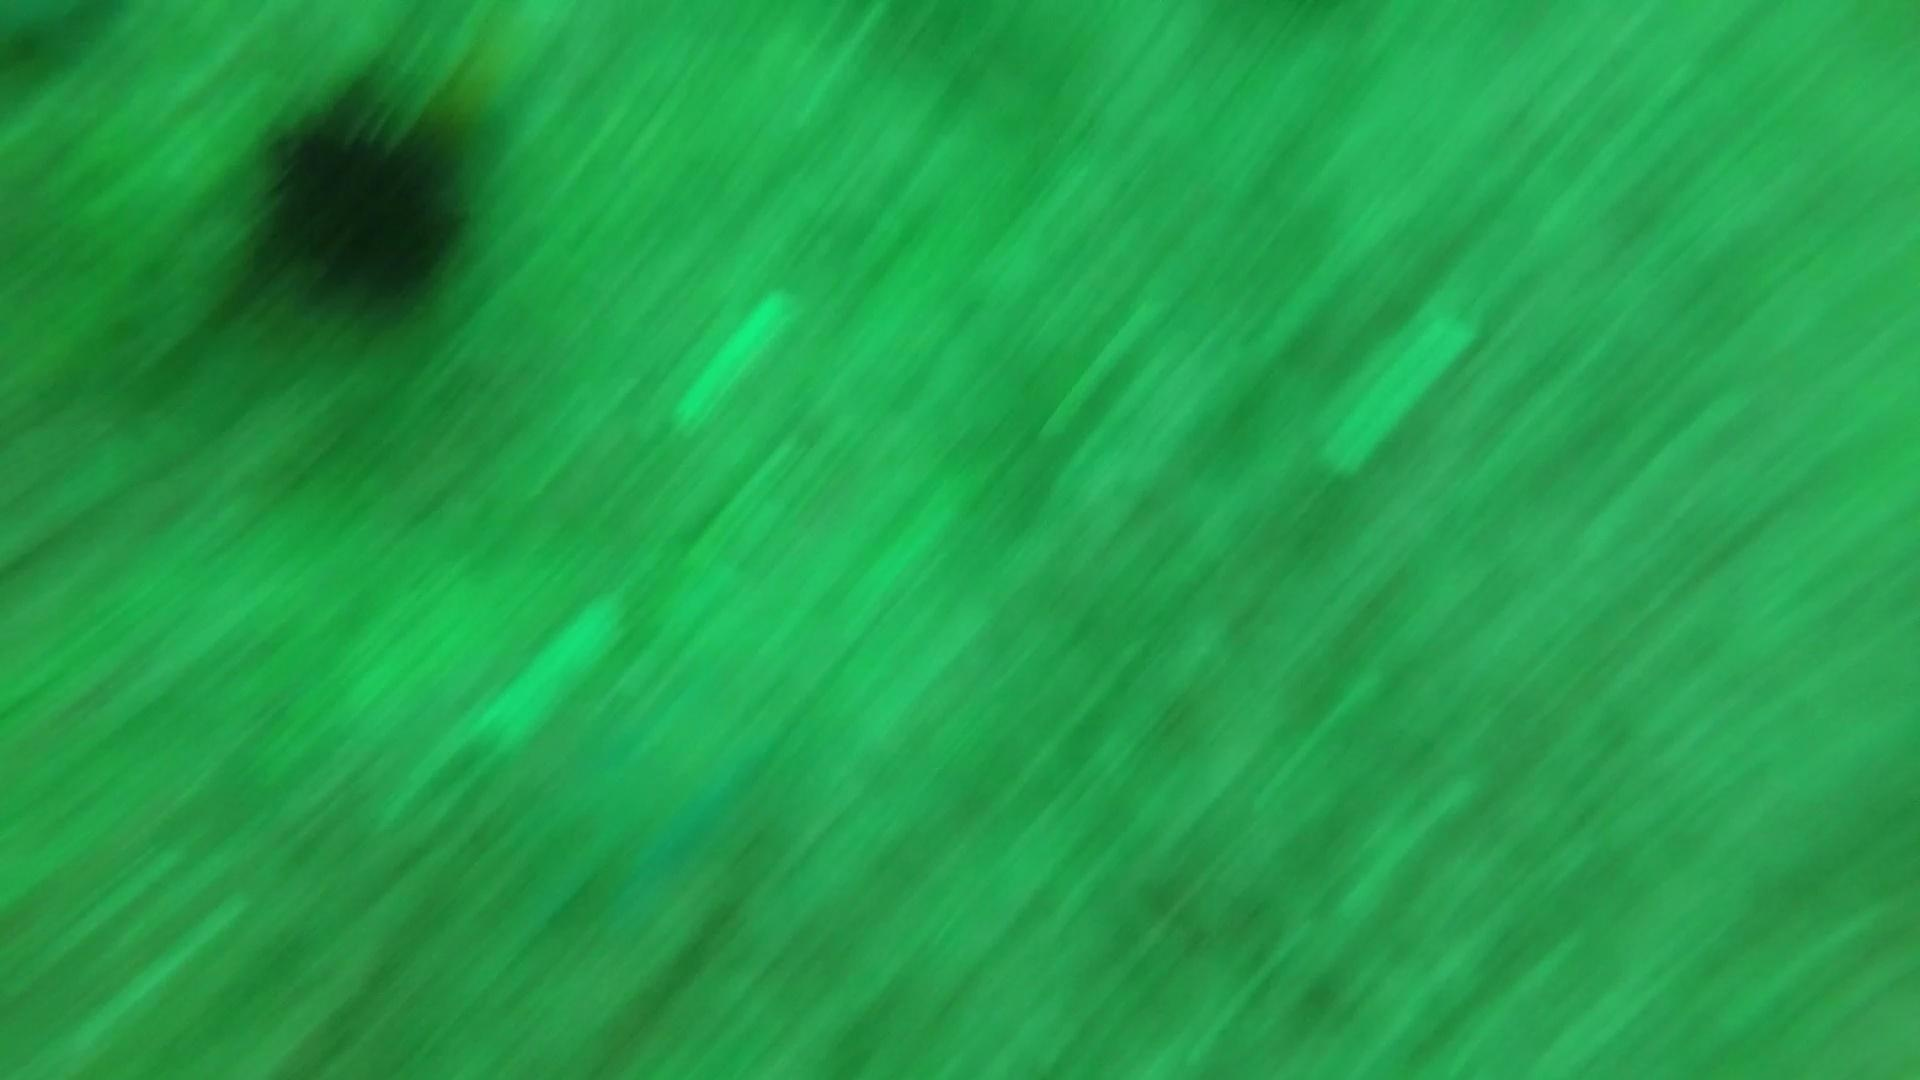echinus: (243, 87, 483, 319)
starfish: (492, 698, 779, 945)
